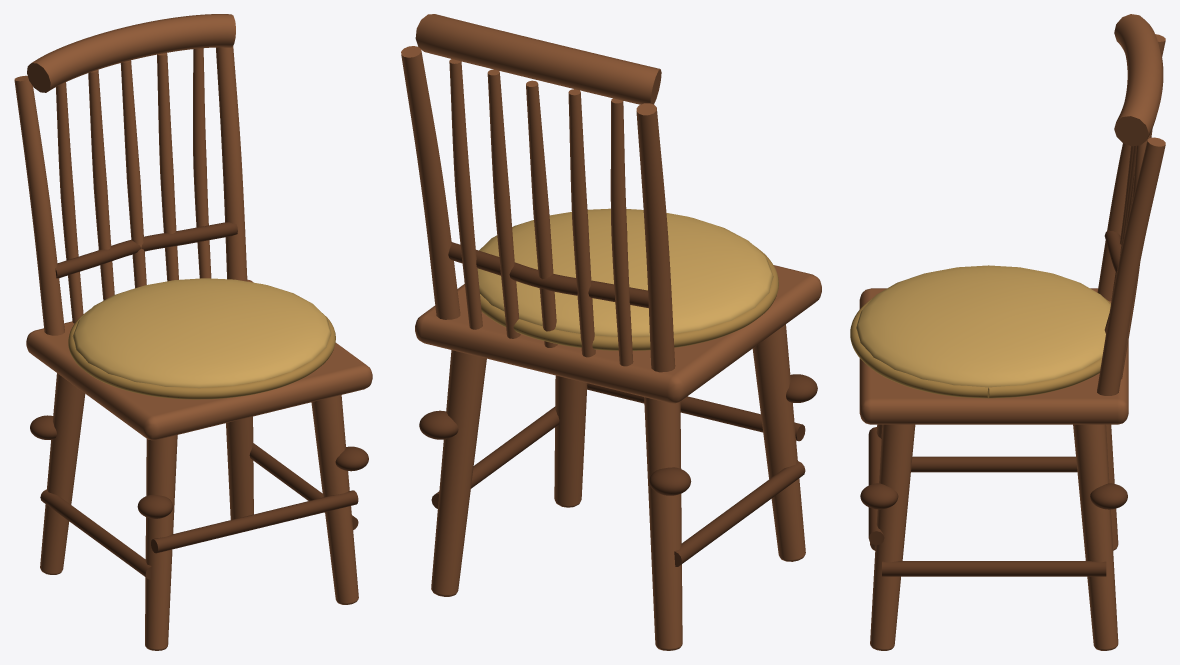
The model's file is chair.glb.
3 views of the same model, side by side, from view 1: azimuth 30°, elevation 25°; view 2: azimuth 150°, elevation 25°; view 3: azimuth 270°, elevation 25° (orthographic). The views are drawn at different scales.
Parts seen in each view (by area): view 1: cushion, seat, top_rail, back_post, leg.002, leg, leg.001, back_post.001, piping, stretcher.002, spindle, spindle.002 (+10 smaller); view 2: cushion, seat, top_rail, leg.003, leg.001, leg, back_post.001, back_post, spindle.004, spindle, spindle.001, spindle.003 (+10 smaller); view 3: cushion, seat, leg.003, leg.002, back_post.001, top_rail, stretcher.001, piping, stretcher, back_post, stretcher.002, leg_turn.002 (+4 smaller).
Part boxes in pixels (box(x1,y1,x2,y2)): cushion: box(72, 278, 331, 388); seat: box(26, 279, 372, 440); top_rail: box(27, 14, 235, 92); back_post: box(14, 75, 64, 335); leg.002: box(311, 395, 358, 604); leg: box(145, 435, 177, 650); leg.001: box(40, 373, 85, 574); back_post.001: box(216, 46, 247, 281); piping: box(68, 309, 335, 399); stretcher.002: box(151, 490, 358, 553); spindle: box(56, 82, 83, 323); spindle.002: box(120, 60, 146, 288); cushion: box(477, 208, 773, 336); seat: box(415, 265, 821, 403); top_rail: box(415, 14, 661, 104); leg.003: box(431, 350, 486, 596); leg.001: box(644, 397, 682, 650); leg: box(752, 324, 805, 561); back_post.001: box(401, 46, 460, 319); back_post: box(636, 103, 675, 372); spindle.004: box(449, 59, 482, 329); spindle: box(610, 98, 633, 366); spindle.001: box(568, 89, 595, 357); spindle.003: box(487, 69, 520, 338); cushion: box(856, 265, 1110, 389); seat: box(859, 288, 1128, 424); leg.003: box(1073, 424, 1118, 650); leg.002: box(870, 424, 915, 650); back_post.001: box(1097, 137, 1165, 395); top_rail: box(1114, 14, 1163, 146); stretcher.001: box(882, 561, 1106, 576); piping: box(850, 297, 1110, 398); stretcher: box(911, 456, 1077, 472); back_post: box(1097, 34, 1165, 300); stretcher.002: box(868, 427, 884, 545); leg_turn.002: box(860, 483, 898, 509).
Bounding box in the file's own units: 0.5139 × 1.06 × 0.5632.
